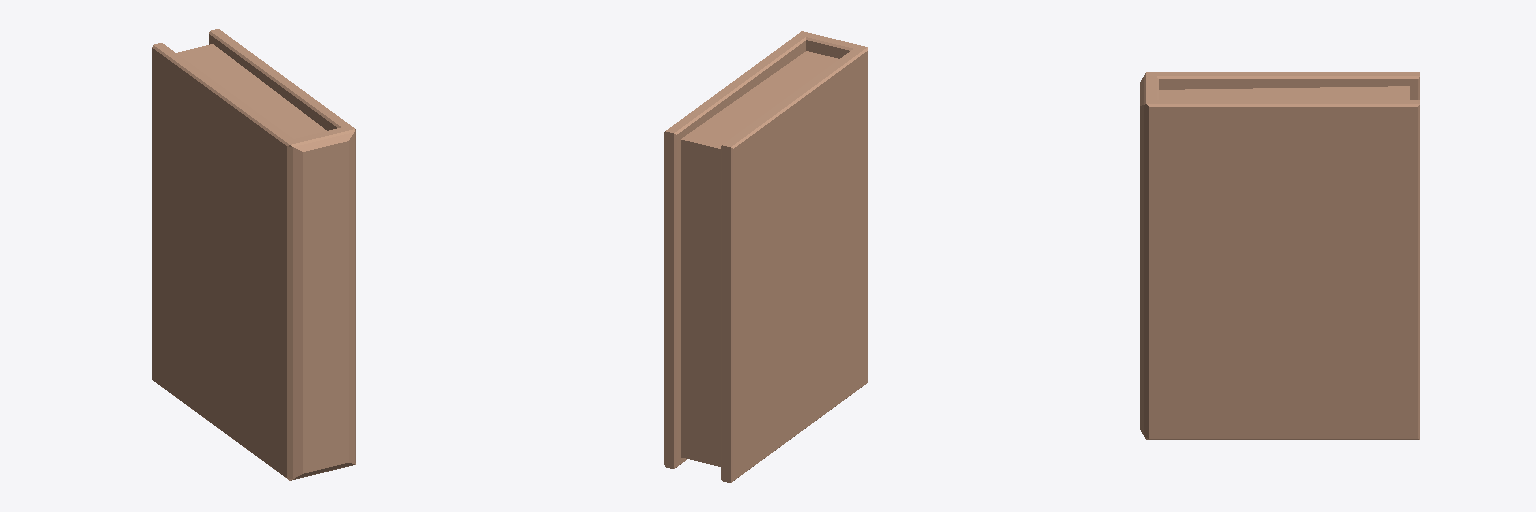
Rendered from Book.obj.
3 views of the same model, side by side, from view 1: azimuth 30°, elevation 25°; view 2: azimuth 150°, elevation 25°; view 3: azimuth 270°, elevation 25° (orthographic).
Visible parts, largest first — view 1: Book; view 2: Book; view 3: Book.
Part boxes in pixels (left/top/right/bottom): Book: left=152, top=29, right=355, bottom=480; Book: left=664, top=31, right=867, bottom=482; Book: left=1140, top=72, right=1419, bottom=439.
Bounding box in the file's own units: 0.1684 × 0.7813 × 0.5915.